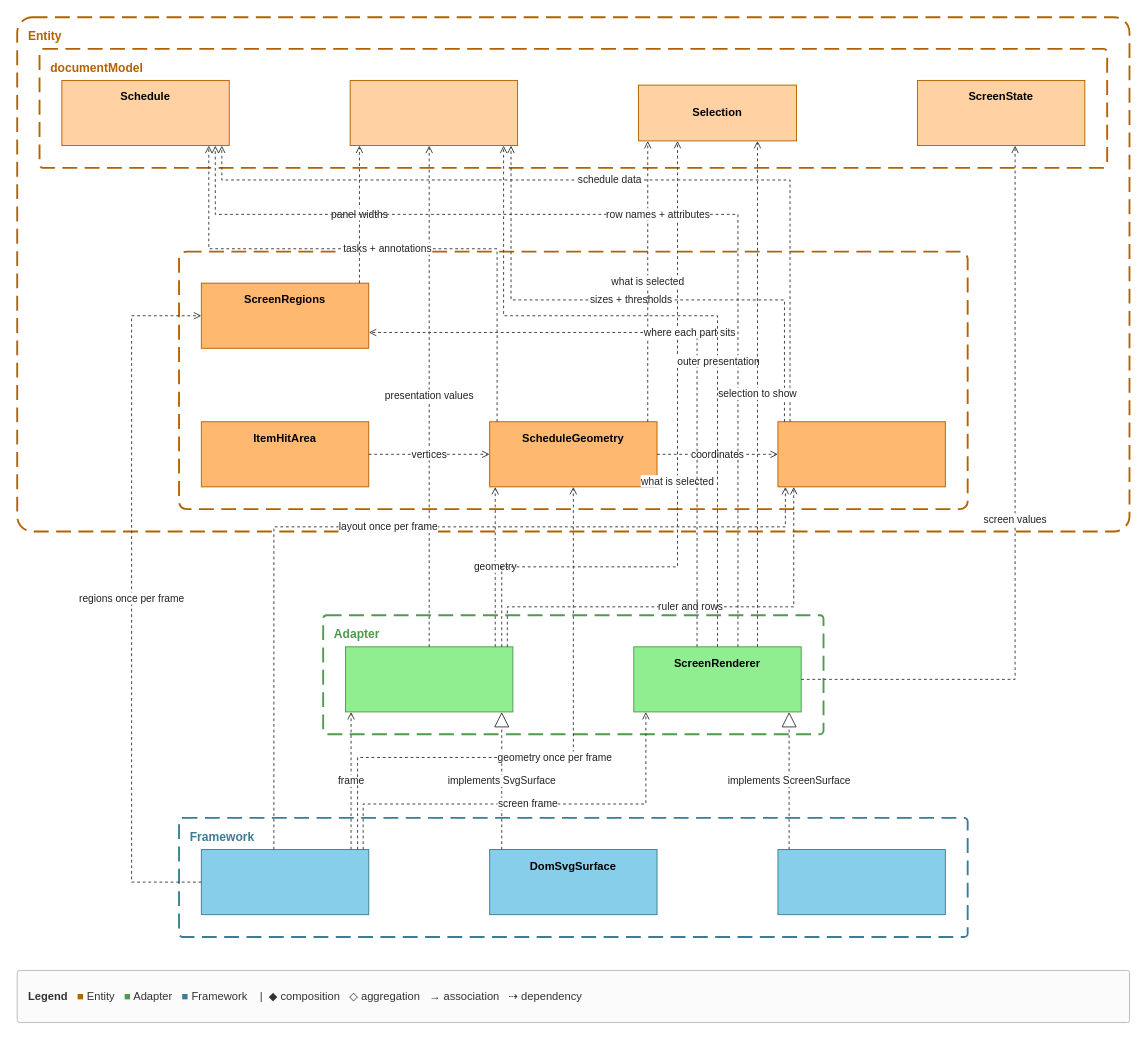
The diagram is 1146 pixels wide and 1039 high, and some of its shapes have lost their labels. The box of each missing label's shape, as (x1, y1, x2, y2) in pixels:
DocumentSettings: (349, 80, 518, 146)
DomScreenSurface: (777, 849, 945, 915)
layoutEngine: (178, 250, 968, 510)
ScheduleLayout: (777, 421, 945, 487)
SingleHtmlShell: (200, 849, 369, 915)
SvgRenderer: (345, 646, 513, 712)
